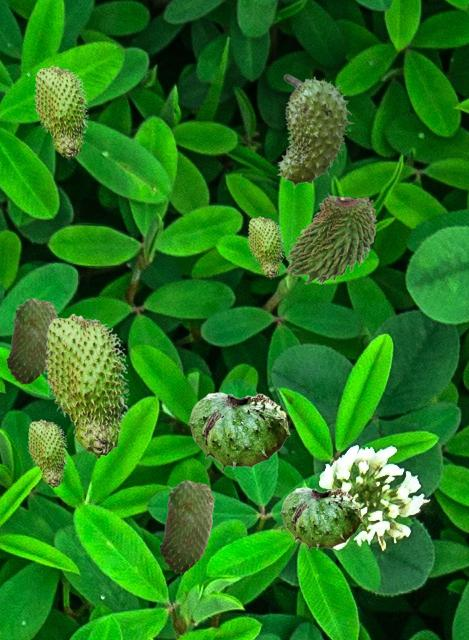guyabano: (43, 313, 129, 458), (276, 74, 353, 187), (285, 192, 376, 283), (188, 392, 289, 471), (280, 487, 362, 551), (33, 65, 88, 159), (159, 479, 214, 573), (6, 297, 57, 384), (27, 419, 67, 487), (247, 216, 283, 278)
